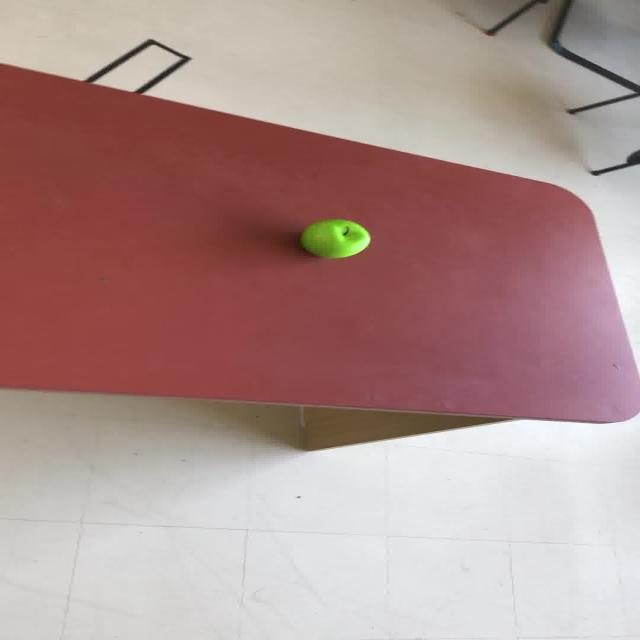apple: (298, 218, 369, 259)
